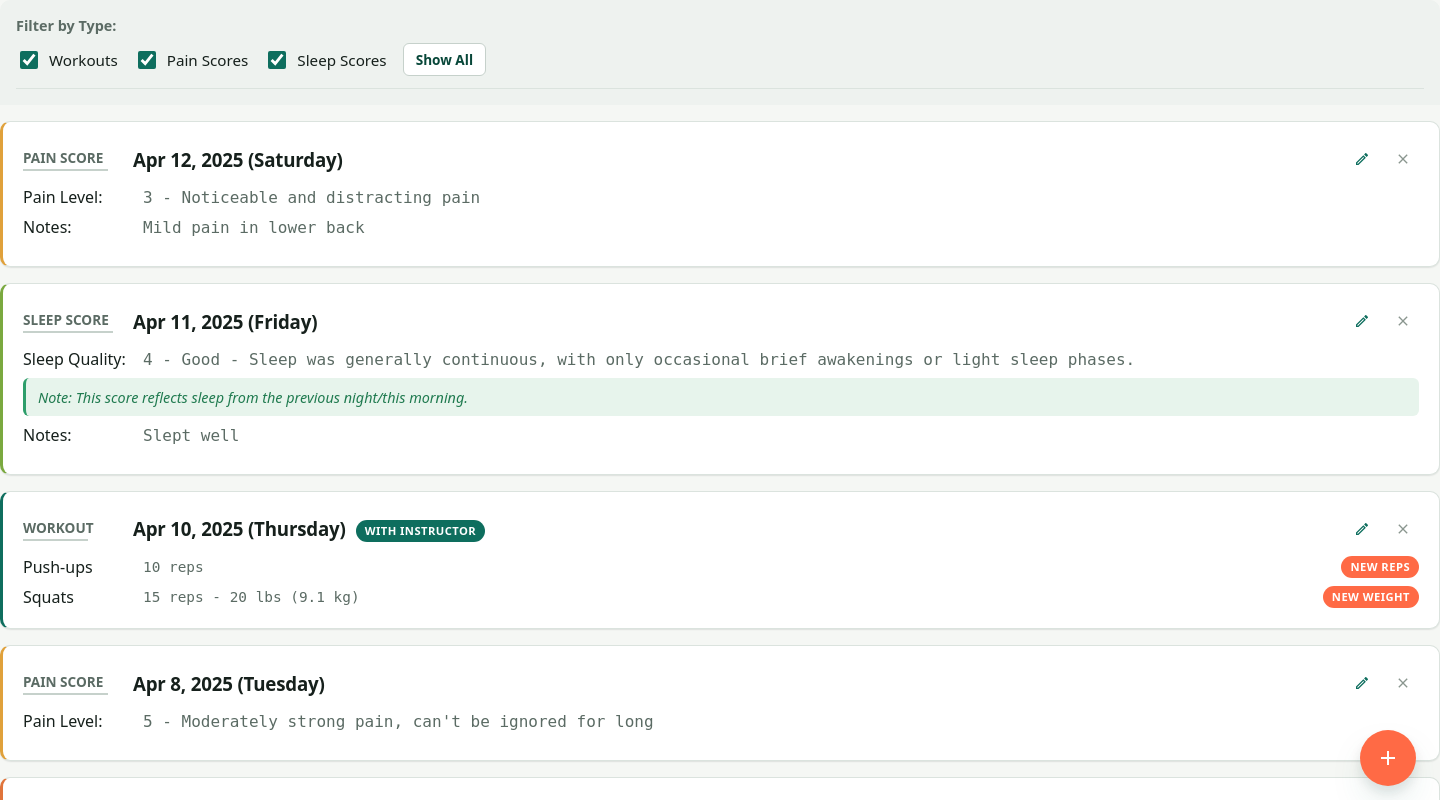
Test case: ListView › handles workout deletion error
Expected: the heading "Apr 10, 2025 (Thursday) With Instructor" is shown, top-left (133, 516), bottom-right (485, 542)
Note: Click the first delete button, then confirm in the modal
Click the button titled "Delete workout" at (1403, 529), box top-left (1387, 513), bottom-right (1419, 545)
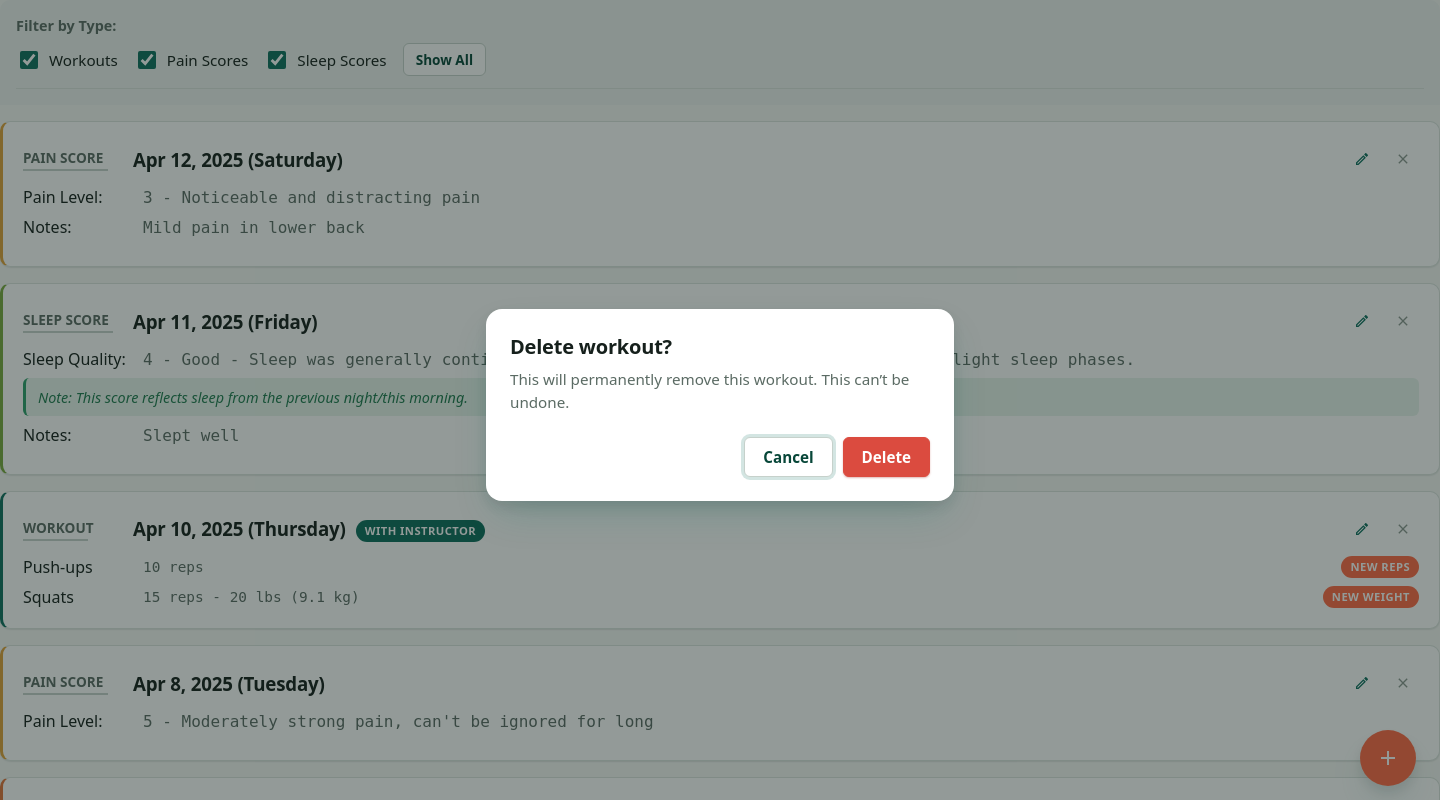
Click the button "Delete" at (886, 457), box top-left (843, 437), bottom-right (930, 477)
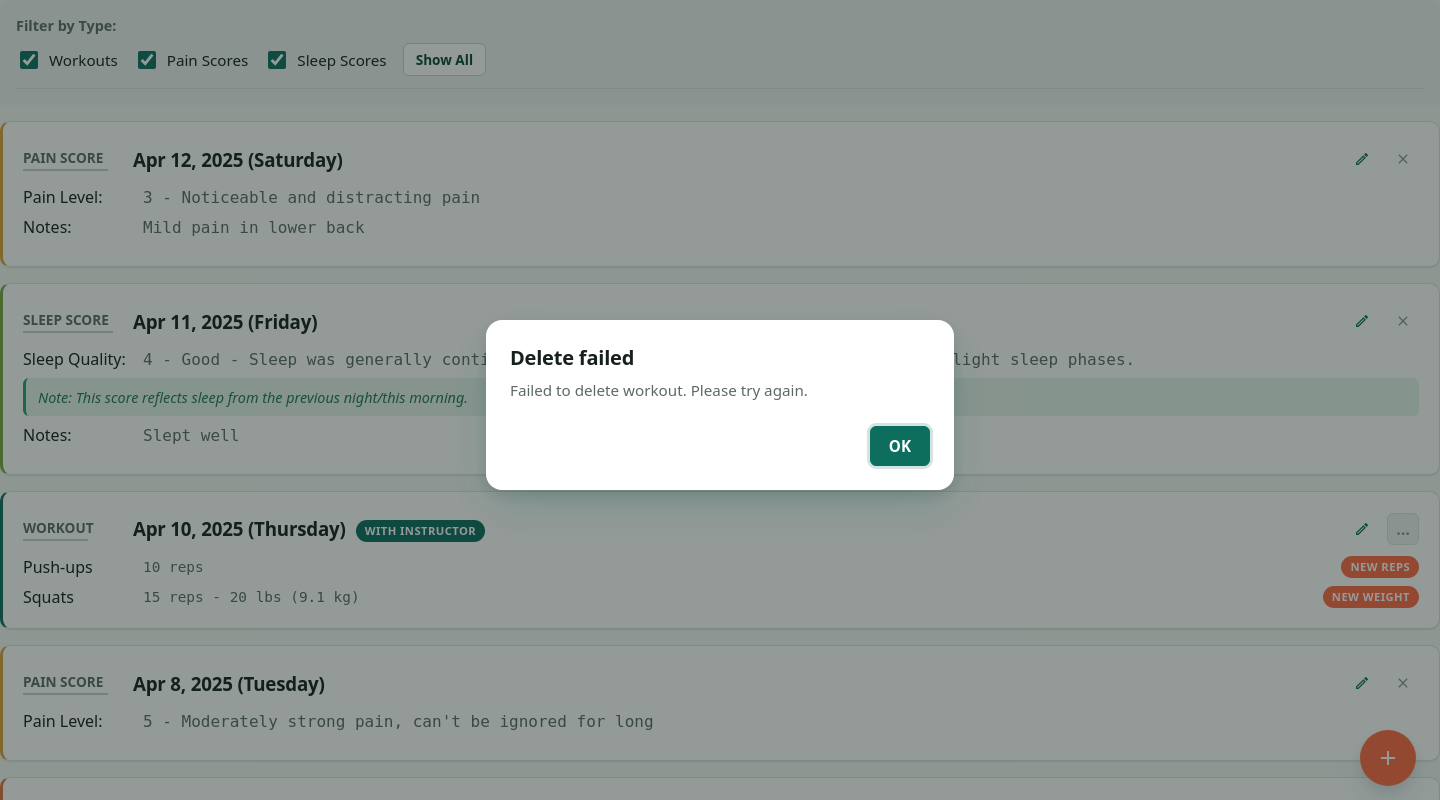
Expected: the text "Failed to delete workout. Please try again." is shown, top-left (510, 380), bottom-right (808, 400)
